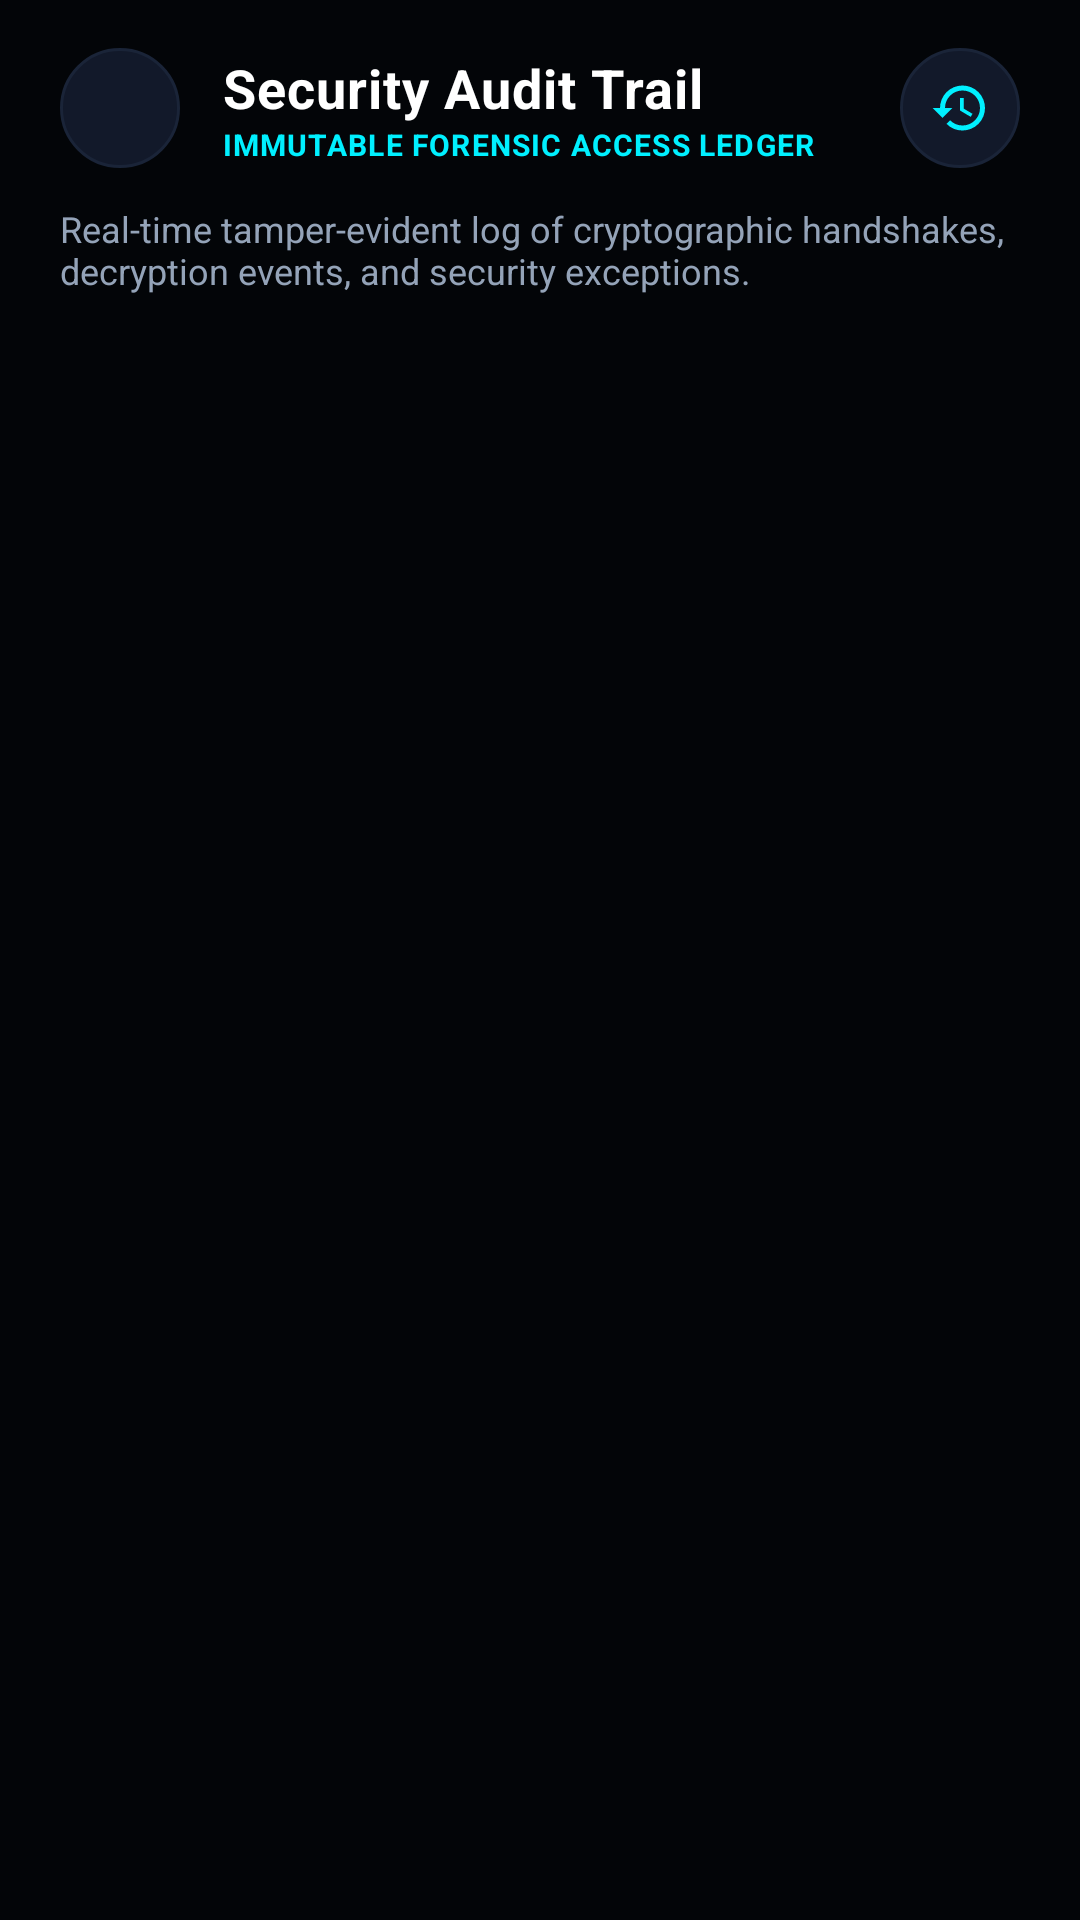

Named icons in this screenshot (1080x1920) and their bounding boxes, (x1, y1, x2, y2):
Sync Audit Logs: (900, 48, 1020, 168)
